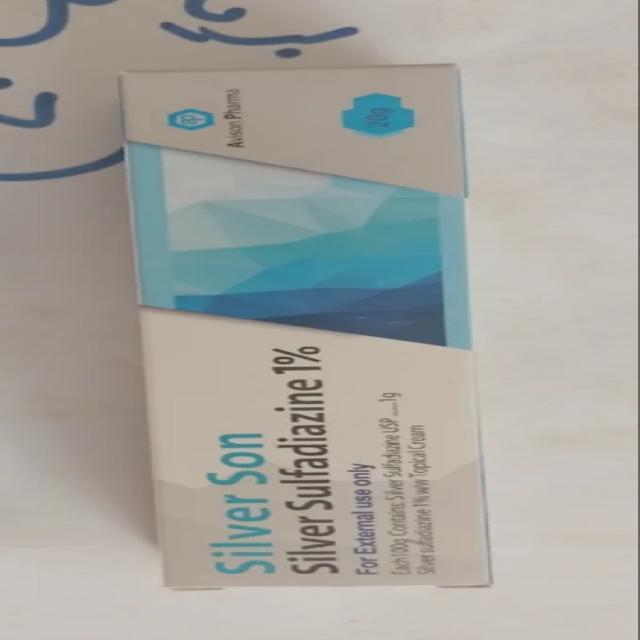drug-name: (207, 425, 275, 578)
